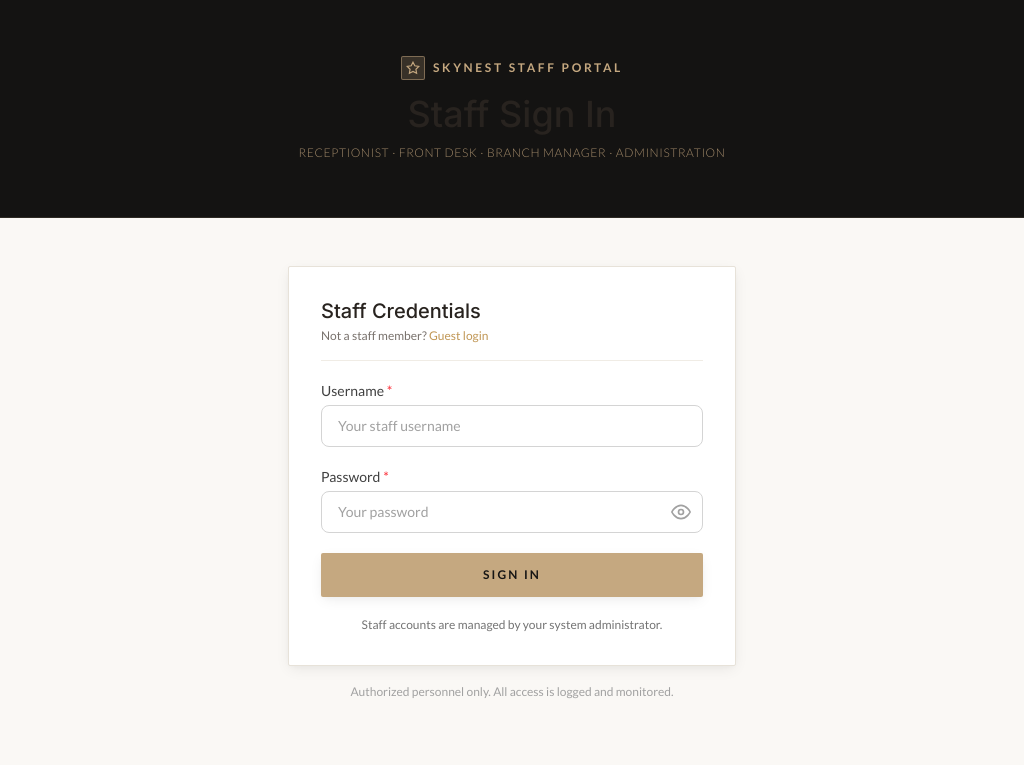
StaffLoginPage - server error handling › shows wrong-credentials message on 401
Type "receptionist_01" into the field labelled "Username *" at (512, 426), box [321, 405, 703, 447]
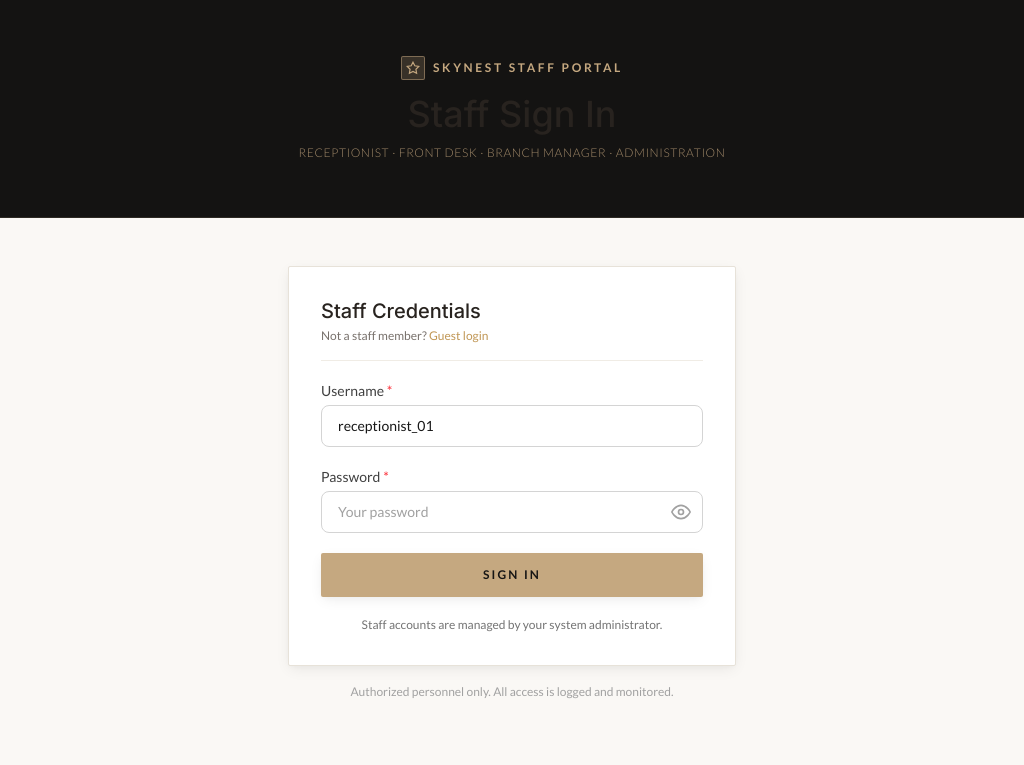
Type "staffpass123" into the password field labelled "Password *" at (512, 512), box [321, 491, 703, 533]
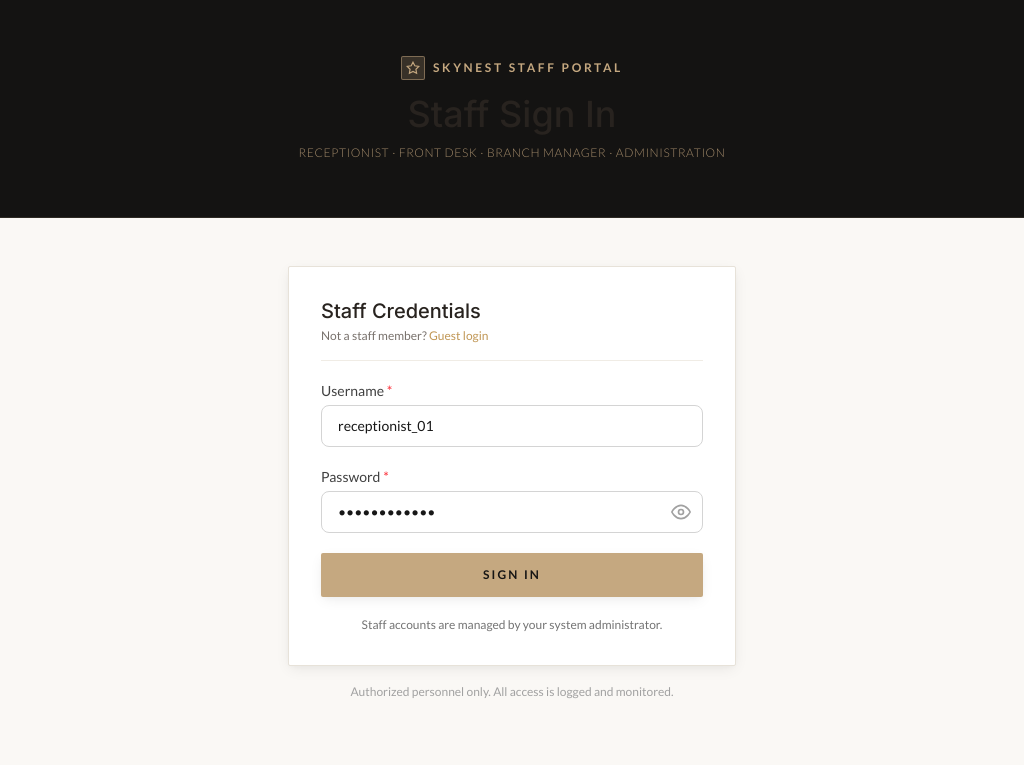
Click the button "Sign In" at (512, 575), box [321, 553, 703, 597]
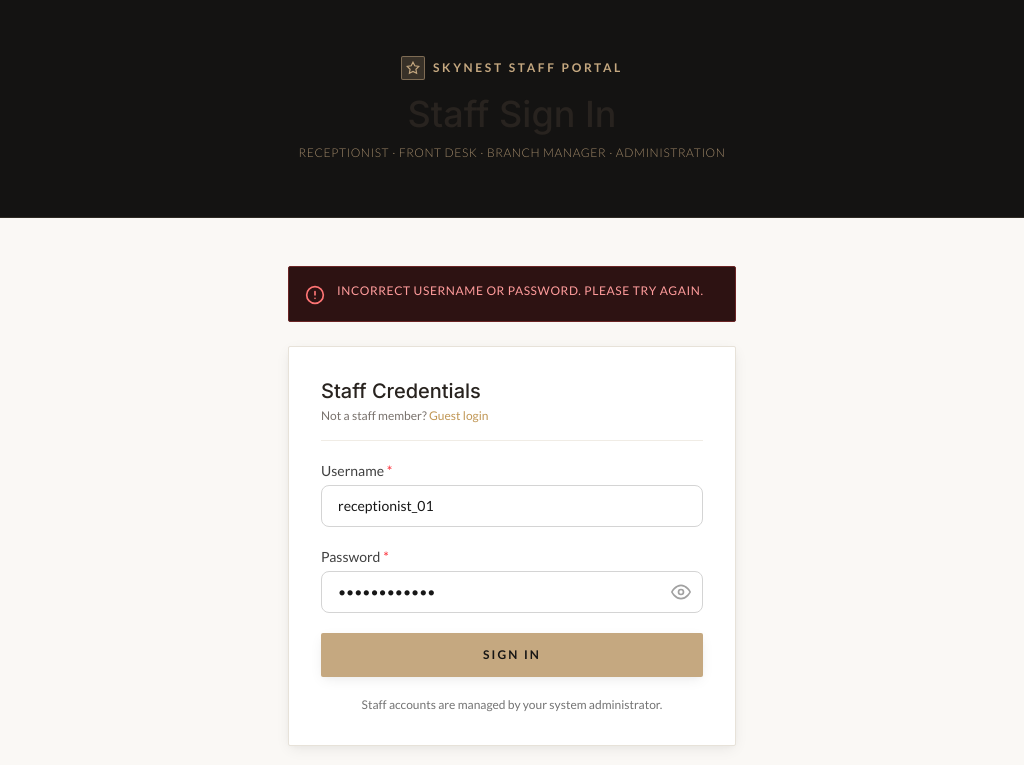
Now the message "Incorrect username or password. Please try again." is shown, box [288, 266, 736, 322]
Now the text "Incorrect username or password. Please try again." is shown, box [337, 283, 704, 299]
